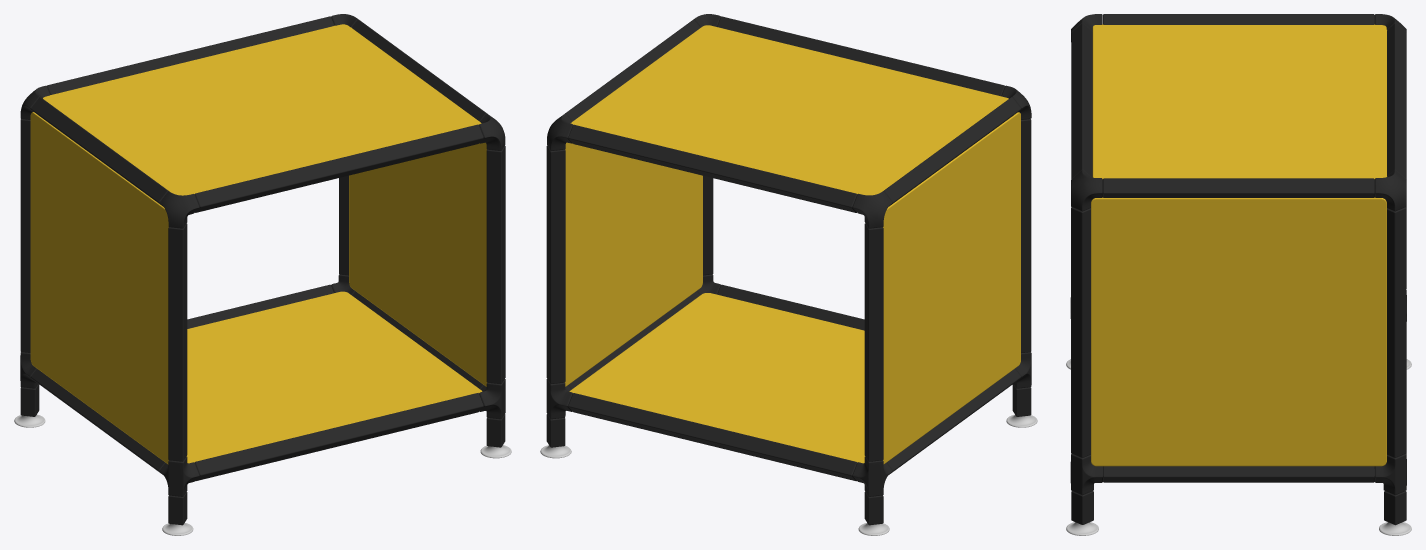
The picture shows the model from 3 angles, left to right: view 1: azimuth 30°, elevation 25°; view 2: azimuth 150°, elevation 25°; view 3: azimuth 270°, elevation 25°; orthographic projection. The views are drawn at different scales.
Visible parts, largest first — view 1: 420x329x330; view 2: 420x329x330; view 3: 420x329x330.
Part boxes in pixels (box(x1,y1,x2,y2)): 420x329x330: box(14, 14, 511, 535); 420x329x330: box(540, 14, 1037, 535); 420x329x330: box(1066, 14, 1411, 535).
Size of the model in its own units: 0.5099 by 0.4683 by 0.4182.
